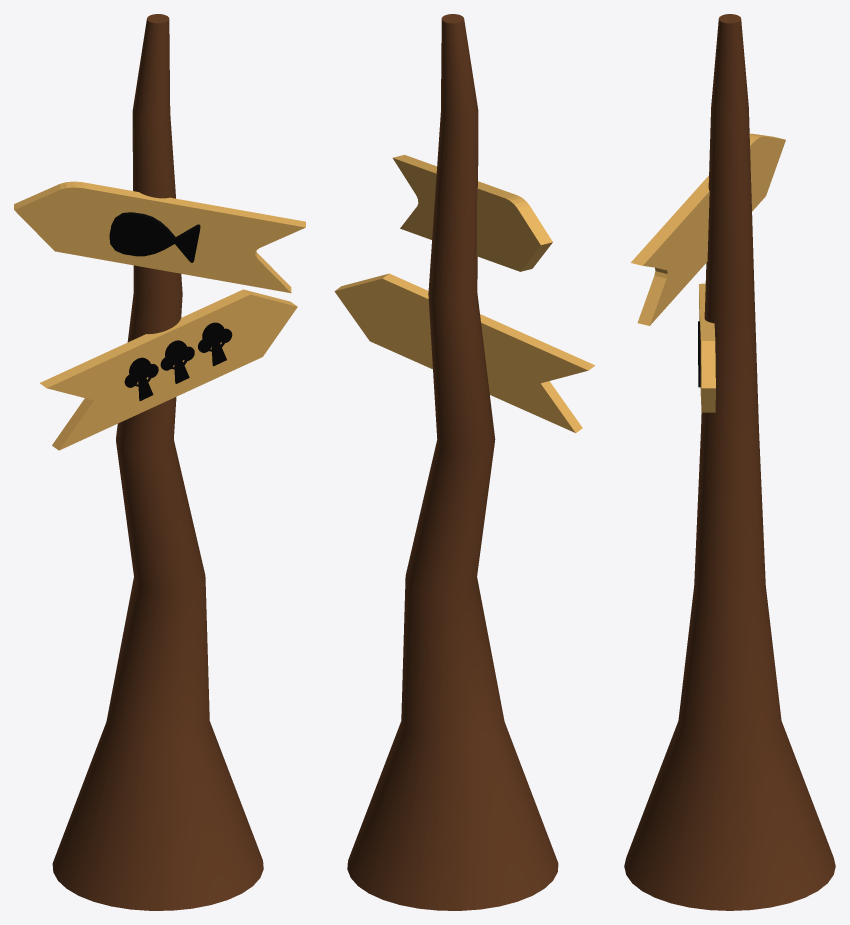
The model's file is poste.glb.
The picture shows the model from 3 angles, left to right: view 1: azimuth 30°, elevation 25°; view 2: azimuth 150°, elevation 25°; view 3: azimuth 270°, elevation 25°; orthographic projection.
Parts seen in each view (by area): view 1: Plane.002; view 2: Plane.002; view 3: Plane.002.
Boxes of the visible parts, bbox=[...] form: Plane.002: bbox=[14, 14, 305, 910]; Plane.002: bbox=[334, 14, 595, 910]; Plane.002: bbox=[624, 14, 835, 910].
Bounding box in the file's own units: 6.16 × 19.73 × 4.46.
